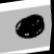correct: (10, 11, 50, 42)
